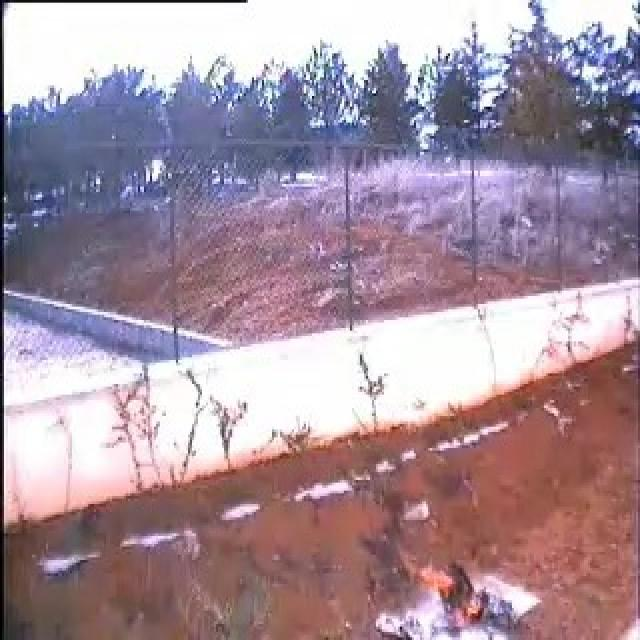fire: (406, 558, 484, 633)
